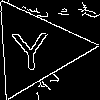Y: (10, 23, 51, 71)
